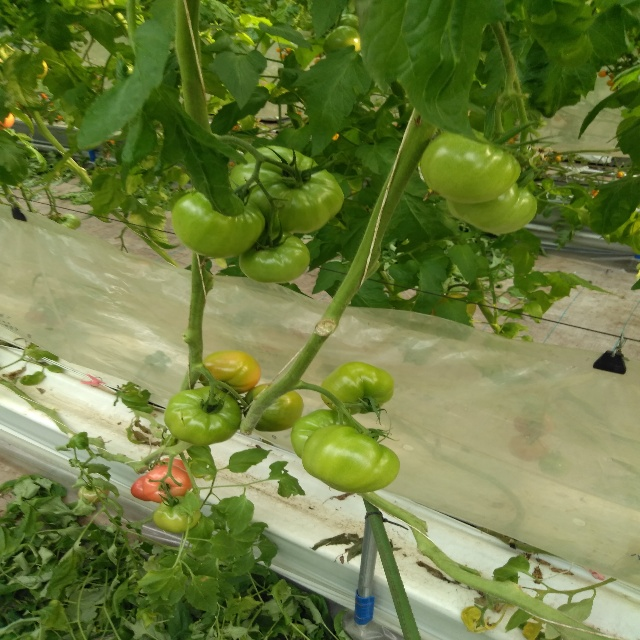b_fully_ripened: (131, 475, 151, 502)
b_green: (228, 146, 344, 234), (420, 131, 520, 204), (301, 425, 400, 494), (172, 191, 265, 259), (445, 183, 536, 236), (164, 386, 241, 446), (320, 362, 394, 415), (238, 231, 310, 283), (290, 409, 360, 459), (243, 383, 304, 432), (154, 496, 201, 534)
b_half_ripened: (196, 350, 261, 396), (142, 465, 193, 504), (152, 457, 187, 472)
